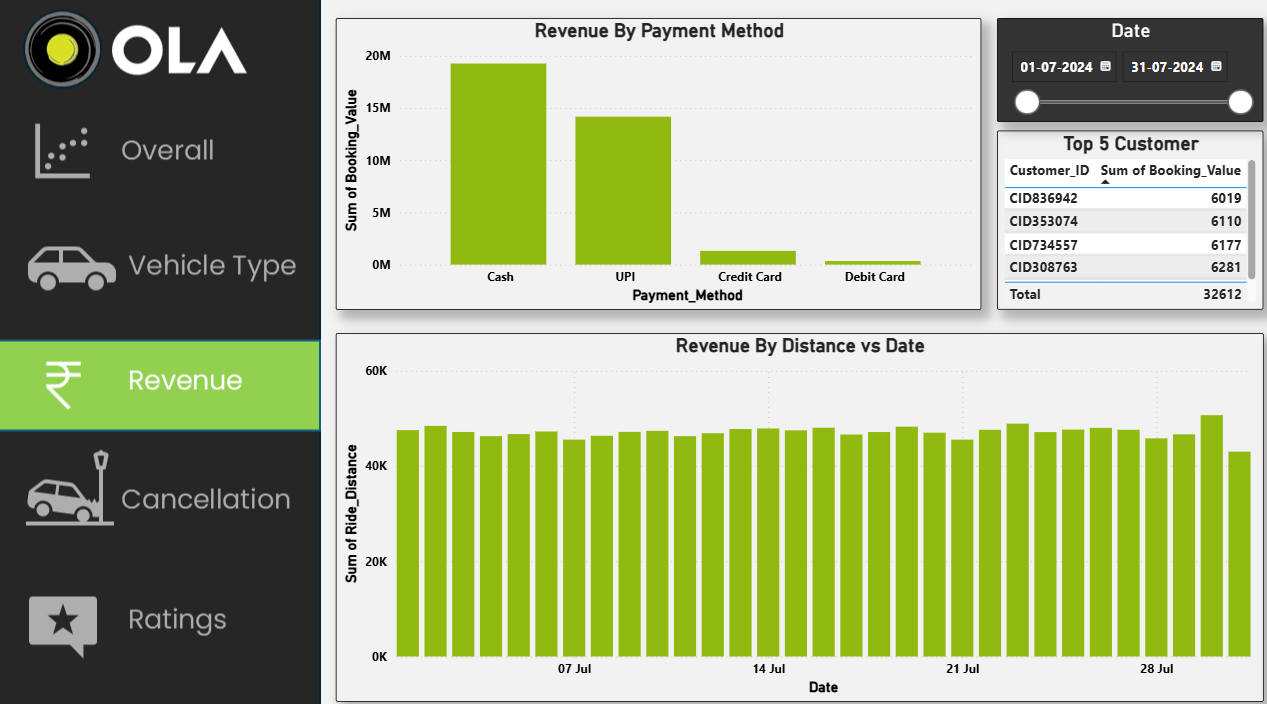

Layout of this report page (visuals, bound fields, positions):
{"tool":"powerbi","page":{"name":"revenue","canvas":[1280,720],"ordinal":2},"visuals":[{"type":"actionButton","box":[0,220.9,323.8,90.6],"z":0},{"type":"actionButton","box":[0,108.4,323.8,90.6],"z":1000},{"type":"actionButton","box":[0,441.9,323.8,118],"z":2000},{"type":"actionButton","box":[0,581.8,323.8,90.6],"z":3000},{"type":"columnChart","title":"Revenue By Payment Method","fields":{"Y":["Sum(olasheet.Booking_Value)"],"Category":["olasheet.Payment_Method"]},"box":[339.2,20,645.7,292.2],"z":4000},{"type":"columnChart","title":"Revenue By Distance vs Date","fields":{"Y":["Sum(olasheet.Ride_Distance)"],"Category":["olasheet.Date"]},"box":[338.9,334.8,927.6,369.1],"z":5000},{"type":"tableEx","title":"Top 5 Customer","fields":{"Values":["olasheet.Customer_ID","Sum(olasheet.Booking_Value)"]},"box":[1000.6,132.6,266.5,179.6],"z":6000},{"type":"slicer","title":"Date","fields":{"Values":["olasheet.Date"]},"box":[1000.6,20,266.5,104.1],"z":7000}]}

Visuals, with their boxes in screenshot pixels (x1, y1, x2, y2), scaled from the page's 1280x720 canvas onto the 1267x704 screenshot:
actionButton: (x1=0, y1=216, x2=321, y2=305)
actionButton: (x1=0, y1=106, x2=321, y2=195)
actionButton: (x1=0, y1=432, x2=321, y2=547)
actionButton: (x1=0, y1=569, x2=321, y2=657)
"Revenue By Payment Method" columnChart: (x1=336, y1=20, x2=975, y2=305)
"Revenue By Distance vs Date" columnChart: (x1=335, y1=327, x2=1254, y2=688)
"Top 5 Customer" tableEx: (x1=990, y1=130, x2=1254, y2=305)
"Date" slicer: (x1=990, y1=20, x2=1254, y2=121)
